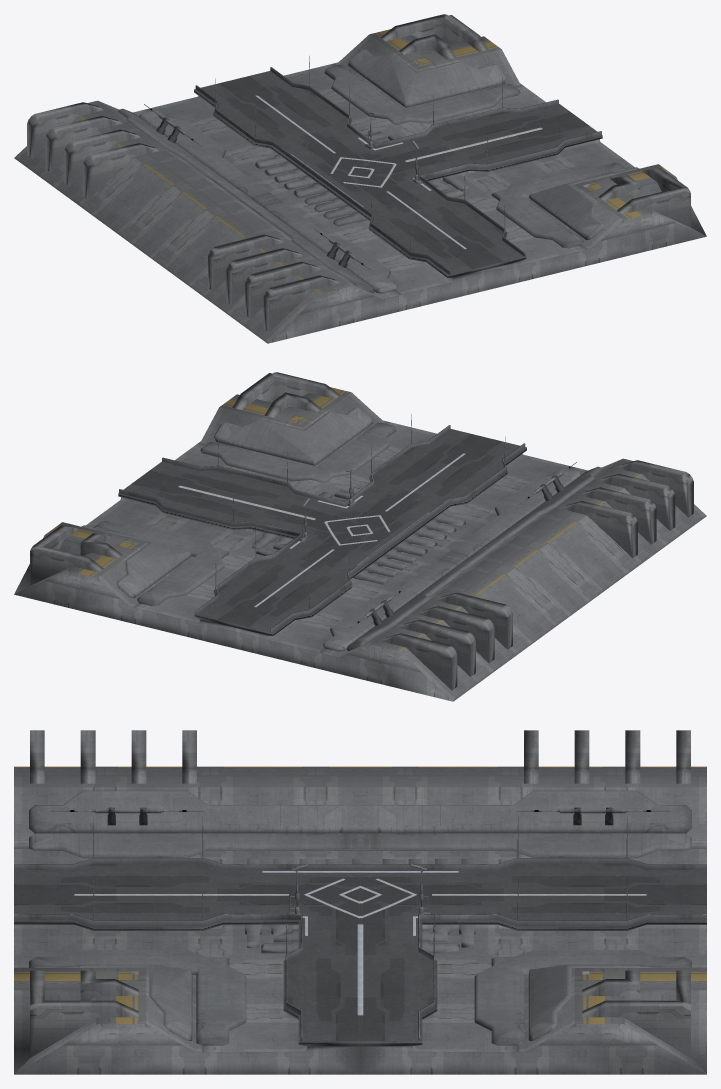
File: CityBlock012.fbx
3 views of the same model, one above another, from view 1: azimuth 30°, elevation 25°; view 2: azimuth 150°, elevation 25°; view 3: azimuth 270°, elevation 25° (orthographic). The views are drawn at different scales.
Visible parts, largest first — view 1: SMCGBlock52_6826.Shape; view 2: SMCGBlock52_6826.Shape; view 3: SMCGBlock52_6826.Shape.
Part boxes in pixels (x1,y1,x2,y2): SMCGBlock52_6826.Shape: (14, 14, 706, 343); SMCGBlock52_6826.Shape: (14, 372, 706, 701); SMCGBlock52_6826.Shape: (14, 730, 706, 1074).
Size of the model in its own units: 727 by 98.98 by 728.
